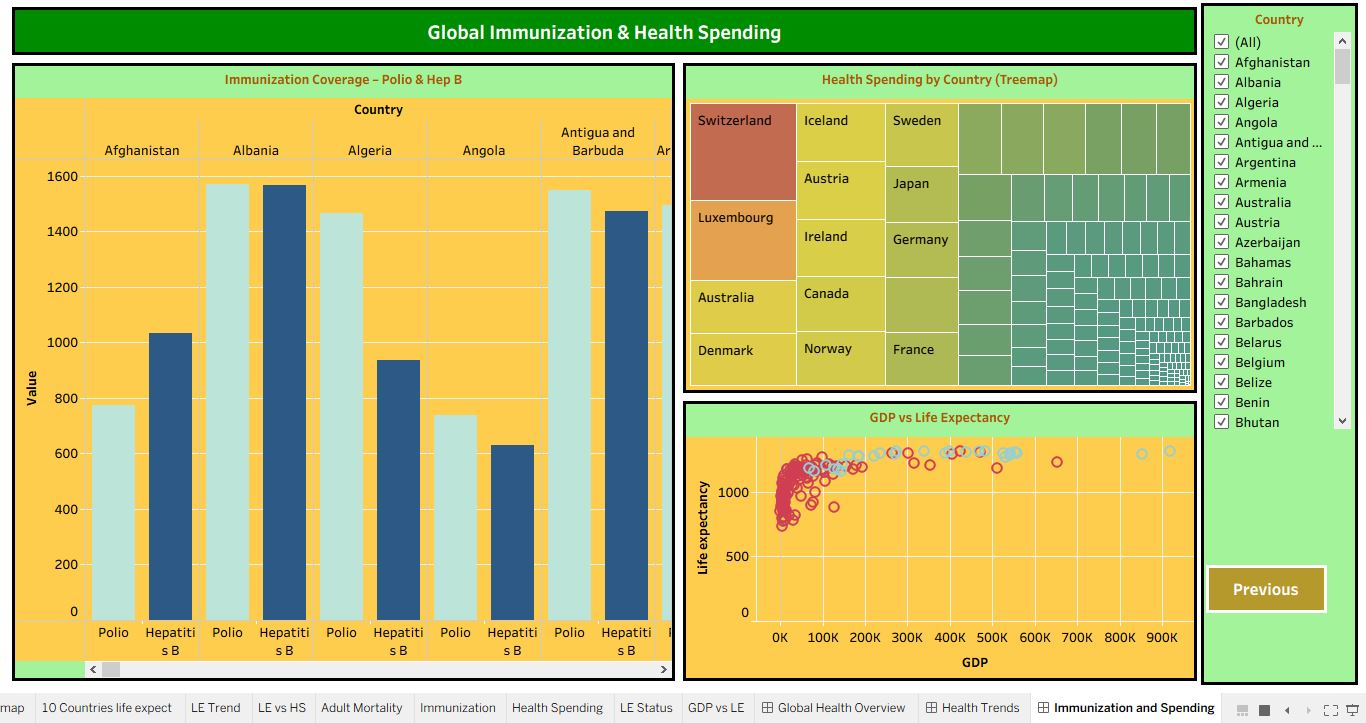

Layout of this report page (visuals, bound fields, positions):
{"tool":"tableau","page":{"name":"Immunization and Spending","canvas":[1000,1000],"units":"permille","ordinal":2},"visuals":[{"type":"text","box":[6.9,16.5,850.2,79.3]},{"type":"filter","title":"Immunization","param":"[federated.0gwjj4a1etb9691c4ut6100xn9h3].[none:Country:nk]","box":[859.7,22.7,130.7,880.4]},{"type":"worksheet","title":"Immunization","mark":"Bar","cols":["Country"],"box":[6.9,95.8,478.4,887.7]},{"type":"worksheet","title":"Health Spending","mark":"Automatic","box":[485.4,95.8,371.8,479.4]},{"type":"worksheet","title":"GDP vs LE","mark":"Automatic","rows":["Life expectancy "],"cols":["GDP"],"box":[485.4,575.3,371.8,408.2]},{"type":"dashboard-object","box":[883.1,817,88.3,68.8]},{"type":"dashboard-object","box":[877.1,900.4,105.6,61.6]}]}

Visuals, with their boxes on the dashboard's canvas, which has no fixed pixel size, in thousandths of its width and height (x1, y1, x2, y2). These are canvas units, not pixel positions in the 1366x723 screenshot, which may show the page scaled, cropped or inside an application window:
text: 7, 16, 857, 96
"Immunization" filter: 860, 23, 990, 903
"Immunization" worksheet (Bar marks): 7, 96, 485, 984
"Health Spending" worksheet: 485, 96, 857, 575
"GDP vs LE" worksheet: 485, 575, 857, 984
dashboard-object: 883, 817, 971, 886
dashboard-object: 877, 900, 983, 962
